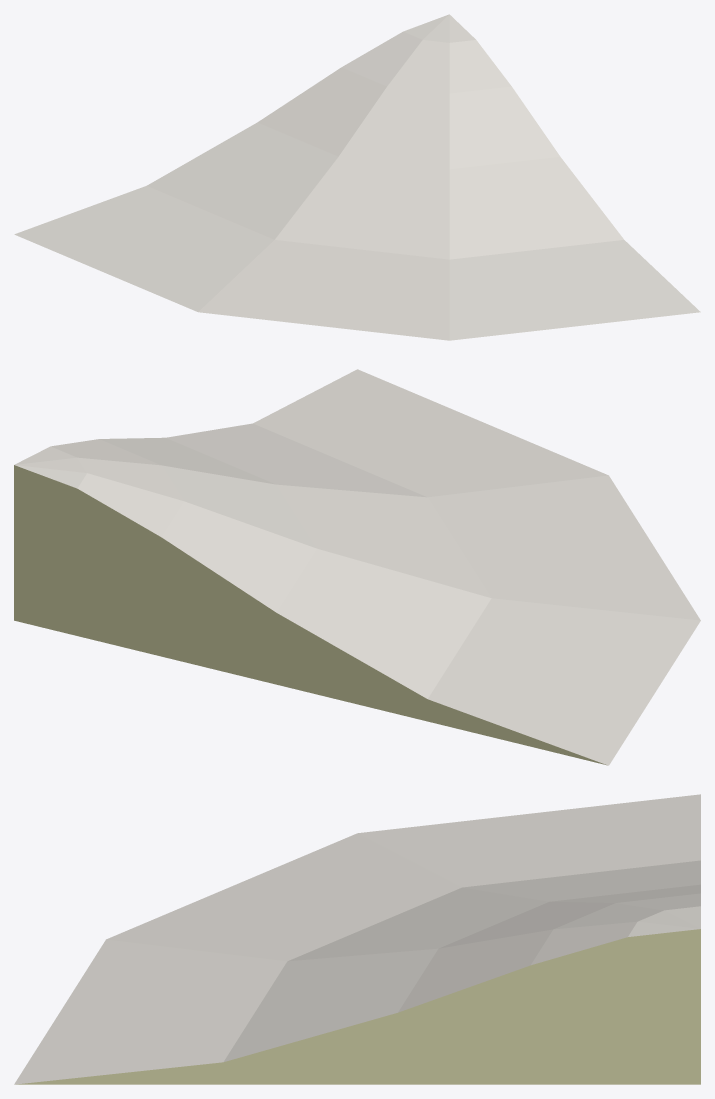
The model's file is Floor_Curve_Outer_4x4.glb.
3 renders of one model, top to bottom at view 1: azimuth 30°, elevation 25°; view 2: azimuth 150°, elevation 25°; view 3: azimuth 270°, elevation 25°, orthographic. The views are drawn at different scales.
Visible parts, largest first — view 1: Floor_Curve_Outer_4x4; view 2: Floor_Curve_Outer_4x4; view 3: Floor_Curve_Outer_4x4.
Boxes of the visible parts, x1=… form: Floor_Curve_Outer_4x4: x1=14, y1=14, x2=700, y2=340; Floor_Curve_Outer_4x4: x1=14, y1=369, x2=700, y2=765; Floor_Curve_Outer_4x4: x1=14, y1=794, x2=700, y2=1084.
Bounding box in the file's own units: 400 × 100 × 400.
